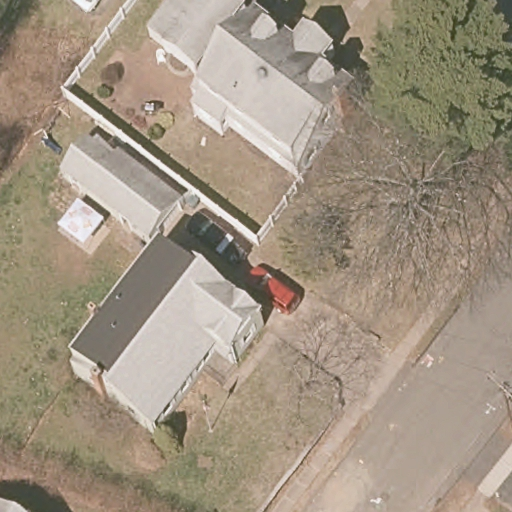DT: (487, 371, 512, 423)
